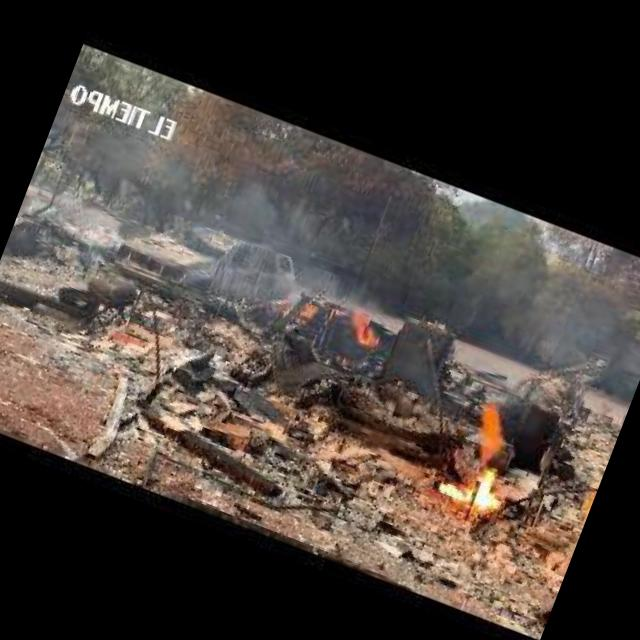fire: (454, 398, 520, 469), (438, 457, 512, 515), (345, 306, 388, 348)
